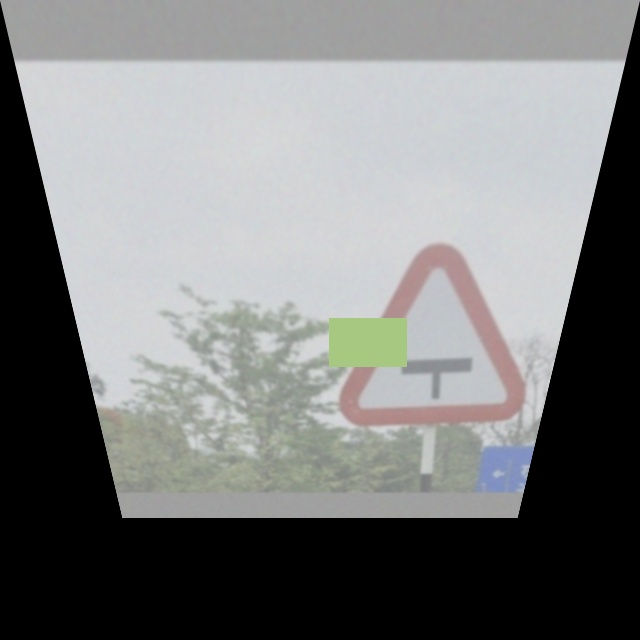T_Intersection: (329, 234, 566, 430)
